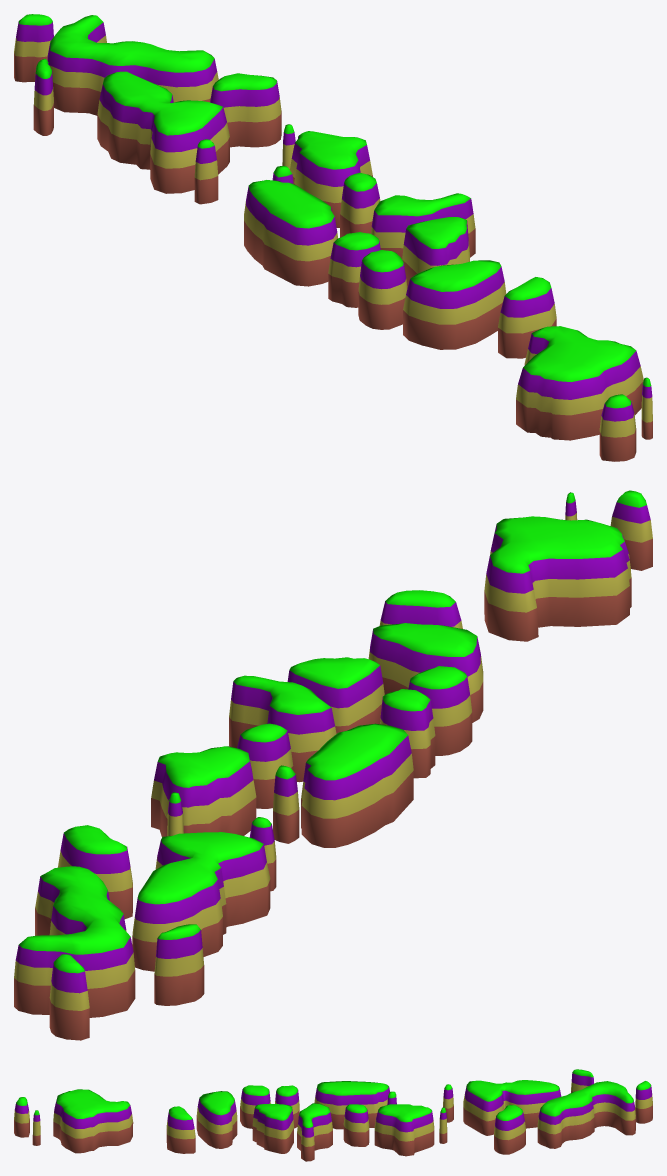
Rendered from maldives_cartoon_map.glb.
3 views of the same model, one above another, from view 1: azimuth 30°, elevation 25°; view 2: azimuth 150°, elevation 25°; view 3: azimuth 270°, elevation 25° (orthographic). The views are drawn at different scales.
Parts seen in each view (by area): view 1: map02.041; view 2: map02.041; view 3: map02.041.
Part boxes in pixels (x1=…): map02.041: x1=14, y1=14, x2=652, y2=461; map02.041: x1=14, y1=490, x2=652, y2=1040; map02.041: x1=14, y1=1069, x2=652, y2=1161.
Bounding box in the file's own units: 4.88 × 1.4 × 22.62.
